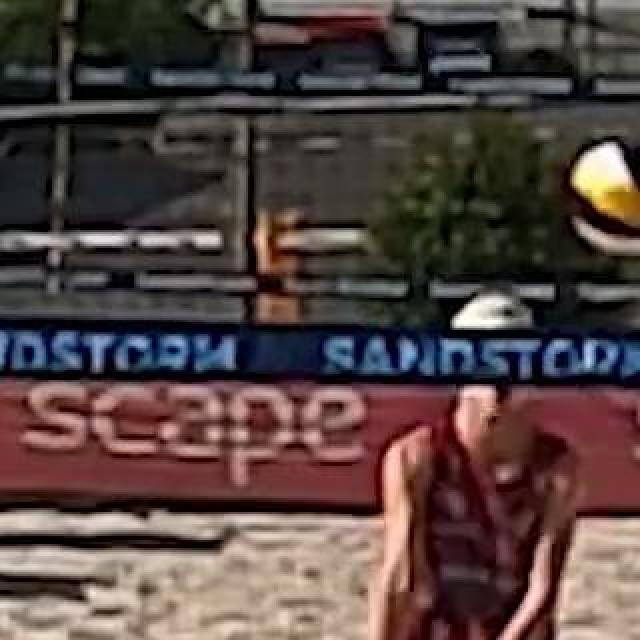volleyball: (568, 134, 640, 256)
